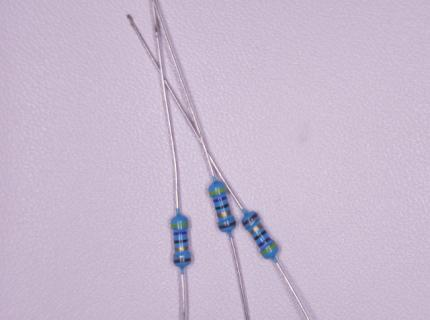Black band: (253, 230, 267, 241), (215, 203, 230, 211), (174, 239, 188, 244)
Brown band: (242, 212, 258, 227), (219, 221, 237, 230), (173, 257, 191, 264)
Gold band: (249, 223, 263, 235), (217, 210, 232, 218), (175, 246, 188, 251)
Violet band: (258, 236, 271, 247), (213, 195, 227, 203), (173, 231, 187, 235)
Yellow band: (260, 242, 277, 256), (209, 187, 227, 195), (171, 222, 188, 227)
